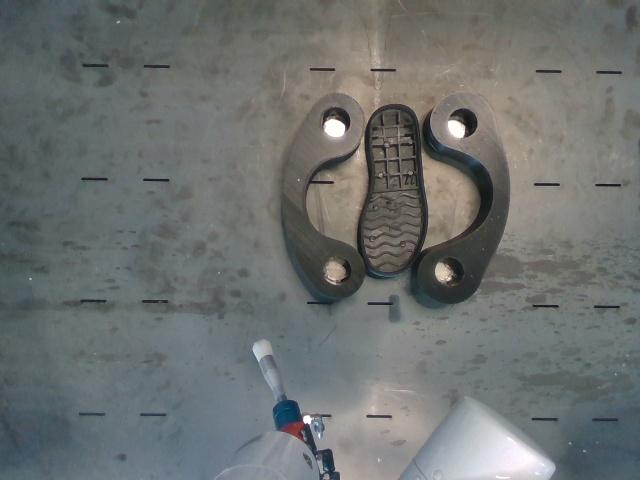shoes: (360, 105, 427, 274)
